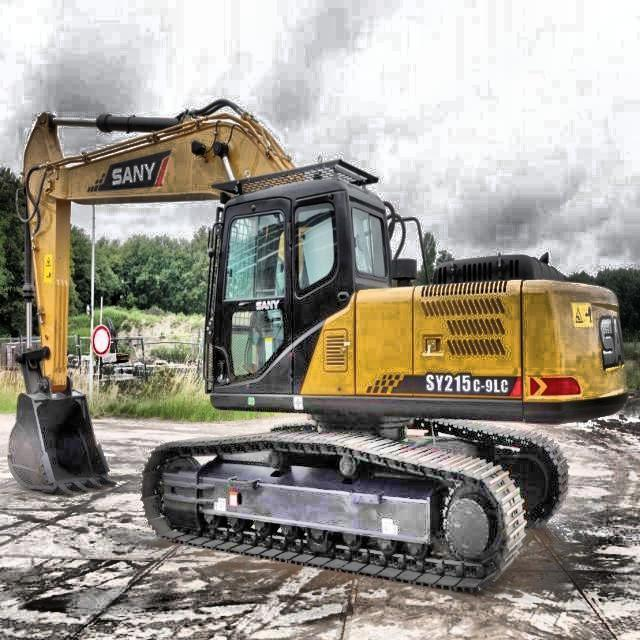excavator: (7, 91, 628, 594)
